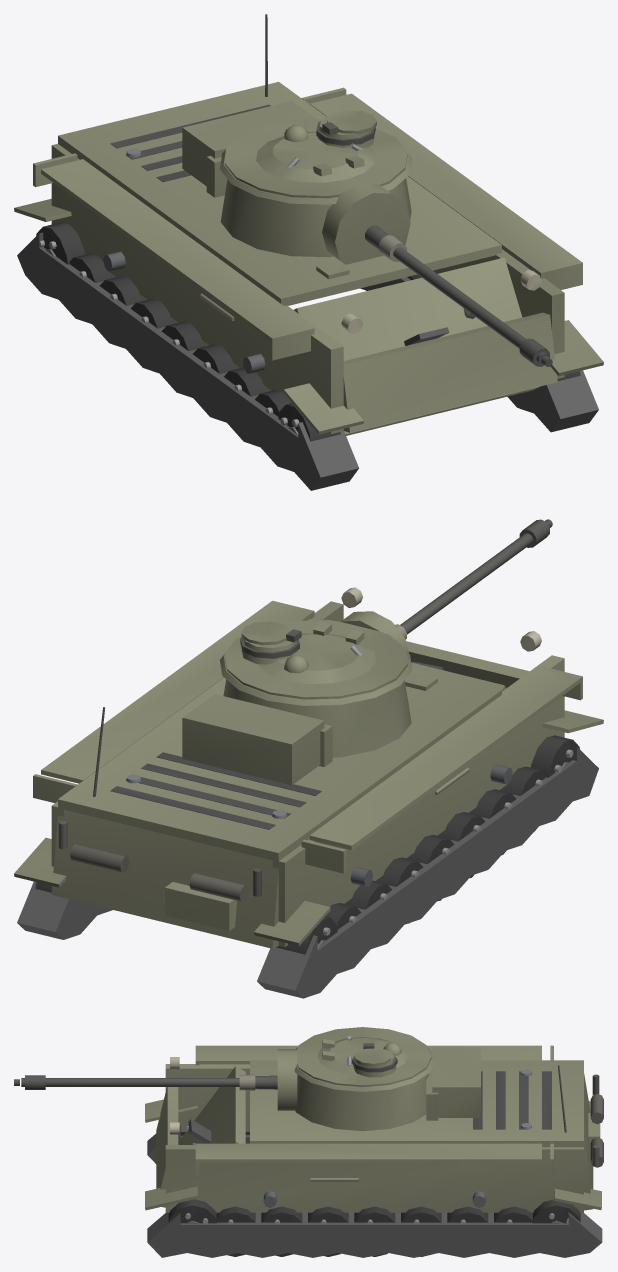
3 views of the same model, one above another, from view 1: azimuth 30°, elevation 25°; view 2: azimuth 150°, elevation 25°; view 3: azimuth 270°, elevation 25° (orthographic). The views are drawn at different scales.
Visible parts, largest first — view 1: hullSide, hullTop, tracks, lowerPlate, glacis, turretRoof, turretFront, mantlet, barrel, wheel8, turretSide, wheel1 (+7 smaller); view 2: hullSide, hullTop, tracks, hullRear, turretFront, turretRoof, barrel, lowerPlate, turretSide, wheel7, glacis, mantlet (+7 smaller); view 3: hullSide, tracks, hullTop, turretFront, turretRoof, glacis, barrel, hullRear, lowerPlate, mantlet, wheel16, wheel17 (+9 smaller).
Boxes of the visible parts, box(x1,y1,x2,y2) form: hullSide: box(33, 87, 582, 433); hullTop: box(58, 81, 501, 305); tracks: box(14, 198, 603, 490); lowerPlate: box(343, 312, 557, 432); glacis: box(294, 257, 539, 435); turretRoof: box(224, 110, 407, 198); turretFront: box(182, 101, 411, 257); mantlet: box(322, 183, 410, 264); barrel: box(365, 225, 552, 366); wheel8: box(36, 222, 85, 264); turretSide: box(220, 149, 412, 204); wheel1: box(100, 276, 146, 305); hullSide: box(33, 587, 582, 946); hullTop: box(58, 668, 501, 861); tracks: box(14, 710, 603, 998); hullRear: box(51, 707, 279, 948); turretFront: box(182, 679, 411, 785); turretRoof: box(224, 620, 407, 699); barrel: box(395, 519, 552, 639); lowerPlate: box(406, 641, 529, 688); turretSide: box(220, 650, 412, 705); wheel7: box(531, 735, 579, 777); glacis: box(405, 661, 506, 691); mantlet: box(340, 611, 408, 652); hullSide: box(165, 1045, 583, 1212); tracks: box(145, 1099, 602, 1257); hullTop: box(250, 1060, 583, 1147); turretFront: box(295, 1047, 480, 1131); turretRoof: box(297, 1027, 431, 1086); glacis: box(178, 1066, 245, 1144); barrel: box(14, 1074, 277, 1090); hullRear: box(558, 1065, 603, 1210); lowerPlate: box(156, 1087, 178, 1207); mantlet: box(277, 1049, 297, 1110); wheel16: box(168, 1199, 216, 1224); wheel17: box(532, 1199, 580, 1224).
Size of the model in its own units: 4.43 by 3.14 by 9.73.
